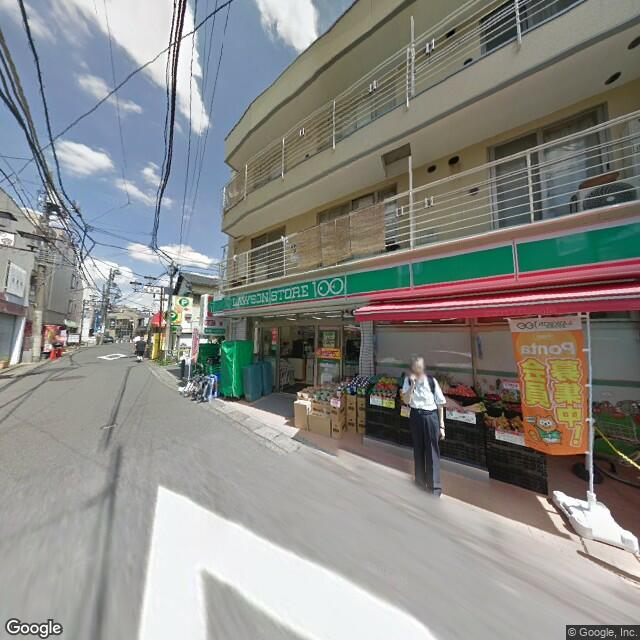lawson: (211, 214, 637, 315)
